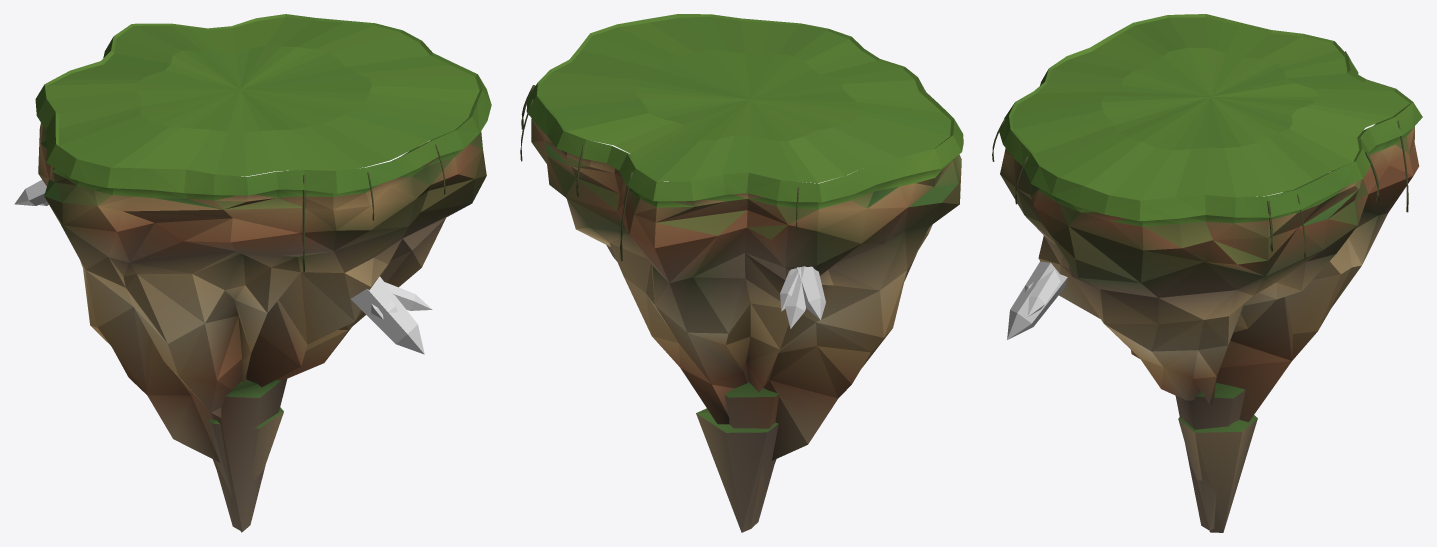
File: FloatIsleB.glb
3 views of the same model, side by side, from view 1: azimuth 30°, elevation 25°; view 2: azimuth 150°, elevation 25°; view 3: azimuth 270°, elevation 25° (orthographic). The views are drawn at different scales.
Parts seen in each view (by area): view 1: Isle.001, IsleTop.001, IsleCrystals.001; view 2: Isle.001, IsleTop.001, IsleCrystals.001, IsleVines.001; view 3: Isle.001, IsleTop.001, IsleCrystals.001, IsleVines.001.
Part boxes in pixels (x1,y1,x2,y2): Isle.001: (35, 14, 491, 532); IsleTop.001: (47, 17, 479, 176); IsleCrystals.001: (14, 180, 432, 354); Isle.001: (526, 14, 963, 532); IsleTop.001: (539, 17, 951, 183); IsleCrystals.001: (780, 266, 825, 328); IsleVines.001: (520, 85, 799, 261); Isle.001: (999, 14, 1422, 532); IsleTop.001: (1012, 17, 1409, 200); IsleCrystals.001: (1007, 261, 1067, 339); IsleVines.001: (992, 51, 1408, 260).
Size of the model in its own units: 32.46 by 33.88 by 30.33.
